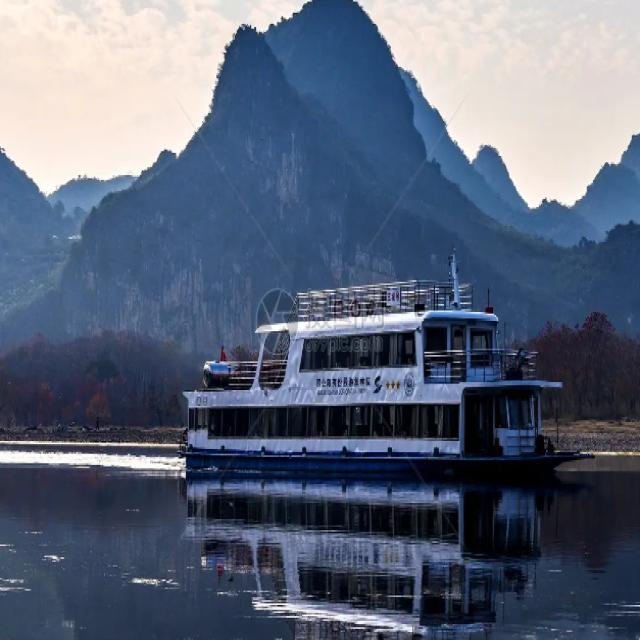houseboat: (181, 268, 571, 480)
